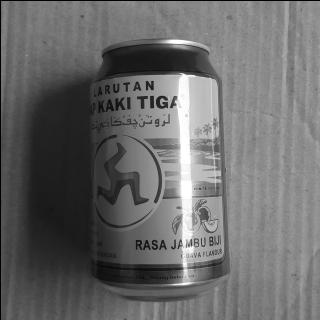alumunium_can: (77, 32, 255, 310)
